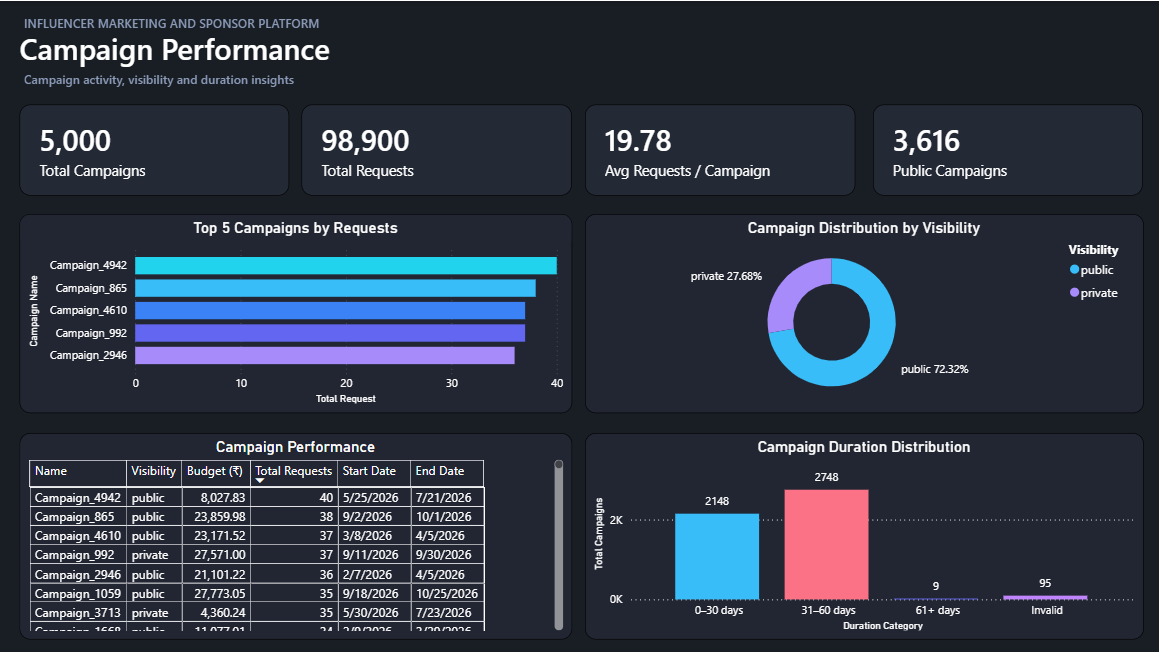

The dashboard page shown, as its layout file describes it:
{"tool":"powerbi","page":{"name":"Campaign Performance","canvas":[1280,720],"ordinal":1},"visuals":[{"type":"cardVisual","fields":{"Data":["Measure.Total Campaigns"]},"box":[21.7,113.3,296,100],"z":0},{"type":"cardVisual","fields":{"Data":["Measure.Avg Request Per Campaign"]},"box":[641.7,113.3,296.7,100],"z":1000},{"type":"textbox","box":[0,25,383.3,53.3],"z":2000},{"type":"textbox","box":[21.7,10,376.7,28.3],"z":3000},{"type":"textbox","box":[21.7,70,326.7,30],"z":4000},{"type":"cardVisual","fields":{"Data":["Measure.Active Campaigns"]},"box":[958.3,113.3,296,100],"z":5000},{"type":"cardVisual","fields":{"Data":["Measure.Total Requests"]},"box":[331.7,113.3,296.7,100],"z":6000},{"type":"clusteredBarChart","title":"Top 5 Campaigns by Requests","fields":{"Category":["dim_campaigns.name"],"Y":["Measure.Total Requests"]},"box":[21.7,233.3,606.7,218.3],"z":7000},{"type":"donutChart","title":"Campaign Distribution by Visibility","fields":{"Category":["dim_campaigns.visibility"],"Y":["CountNonNull(dim_campaigns.campaign_id)"]},"box":[641.7,233.3,613.3,218.3],"z":8000},{"type":"tableEx","title":"Campaign Performance","fields":{"Values":["dim_campaigns.name","dim_campaigns.visibility","Sum(dim_campaigns.budget)","Measure.Total Requests","dim_campaigns.start_date","dim_campaigns.end_date"]},"box":[21.7,473.3,606.7,226.7],"z":9000},{"type":"clusteredColumnChart","title":"Campaign Duration Distribution","fields":{"Category":["dim_campaigns.Duration Category"],"Y":["Measure.Total Campaigns"]},"box":[641.7,473.3,613.3,226.7],"z":10000}]}

Visuals, with their boxes in screenshot pixels (x1, y1, x2, y2), scaled from the page's 1280x720 canvas onto the 1159x652 screenshot:
cardVisual - Measure.Total Campaigns: box=[20, 103, 288, 193]
cardVisual - Measure.Avg Request Per Campaign: box=[581, 103, 850, 193]
textbox: box=[0, 23, 347, 71]
textbox: box=[20, 9, 361, 35]
textbox: box=[20, 63, 315, 91]
cardVisual - Measure.Active Campaigns: box=[868, 103, 1136, 193]
cardVisual - Measure.Total Requests: box=[300, 103, 569, 193]
"Top 5 Campaigns by Requests" clusteredBarChart: box=[20, 211, 569, 409]
"Campaign Distribution by Visibility" donutChart: box=[581, 211, 1136, 409]
"Campaign Performance" tableEx: box=[20, 429, 569, 634]
"Campaign Duration Distribution" clusteredColumnChart: box=[581, 429, 1136, 634]
